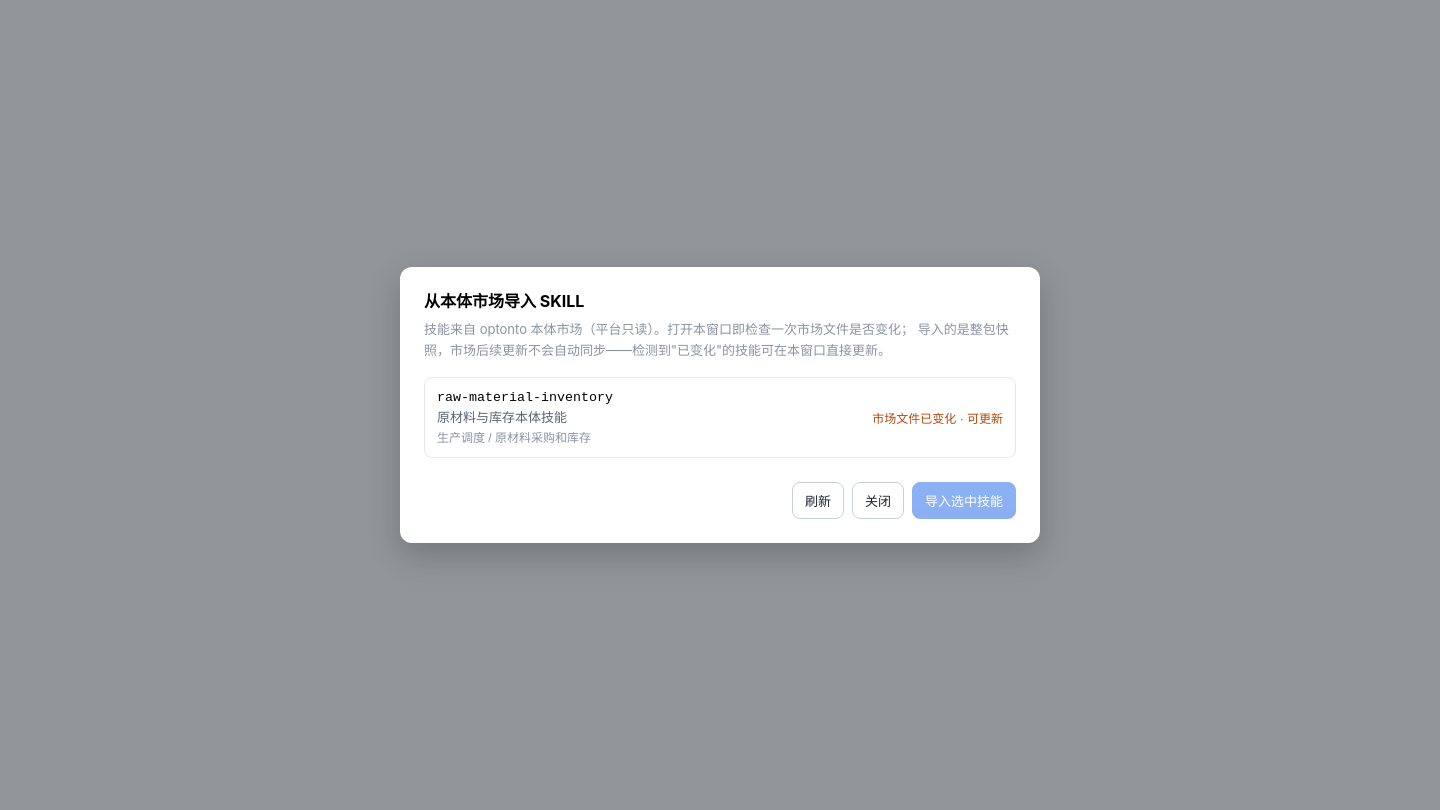
Scenario: SkillMarketDialog —— 更新（§4.8） › 确认块可取消：点取消后确认块消失、主按钮恢复
The width and height of the screenshot is (1440, 810).
What coordinates should you click on to do the following:
click the button with class "skill-market__item"
I would click on:
 (525, 397)
Its box is [424,377,1016,458].
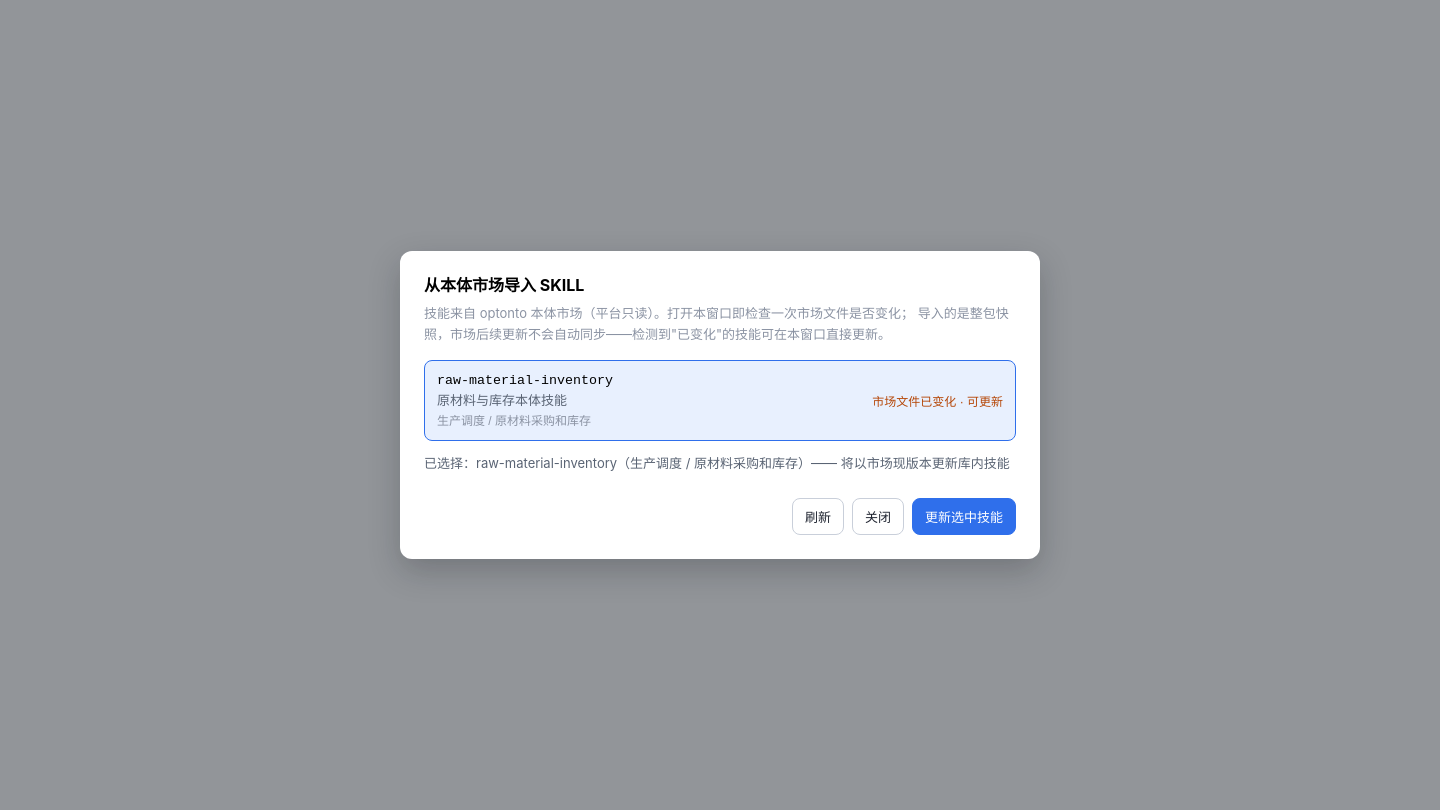
What coordinates should you click on to do the following:
click the button with test id "import"
I would click on:
 (964, 517)
Its box is [912,498,1016,535].
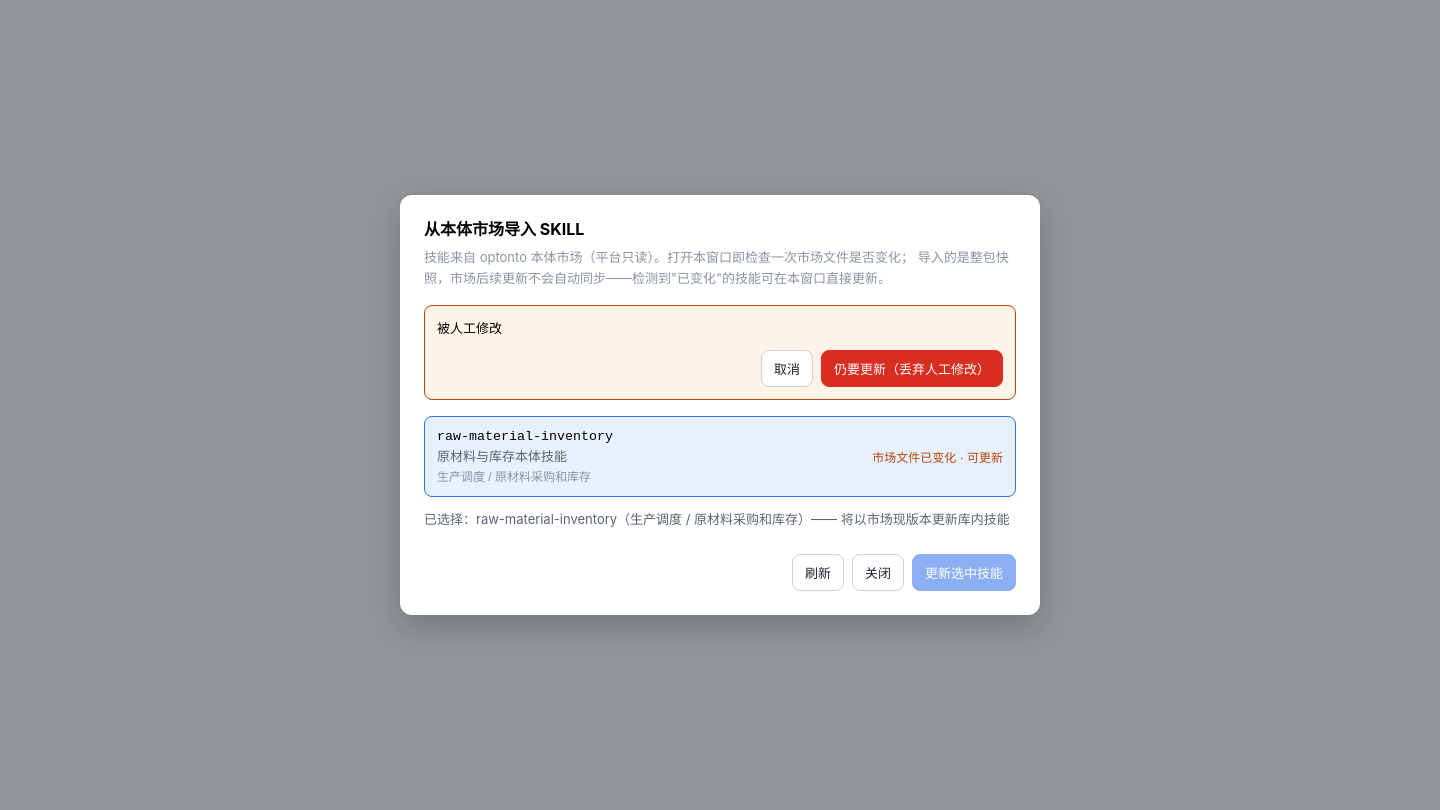
Expected: the button with test id "confirm-update" is shown, [821,350,1003,387]
What coordinates should you click on to do the following:
click the button "取消"
I would click on:
 (787, 369)
Its box is [761,350,813,387].
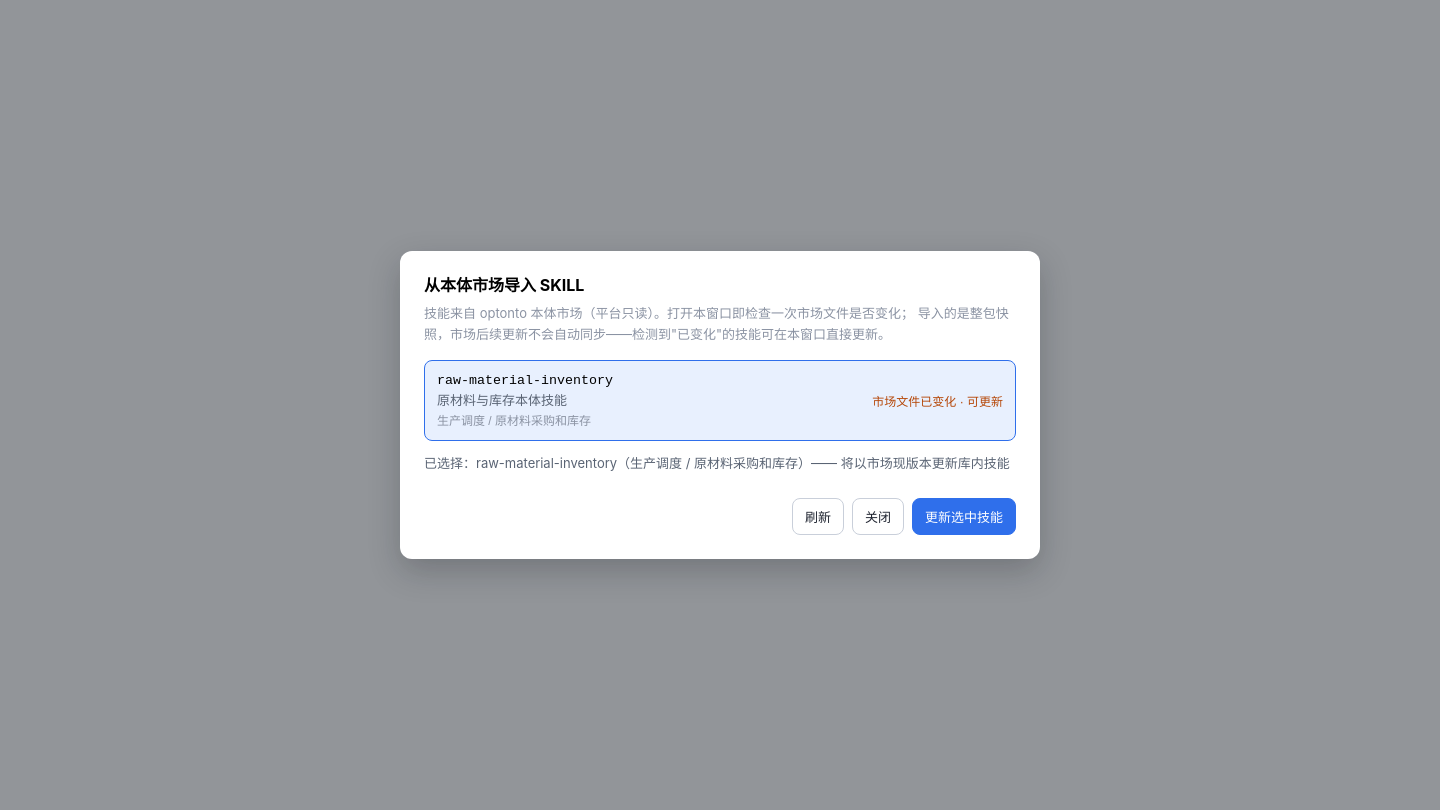
Expected: the button with test id "import" is enabled, [912,498,1016,535]
